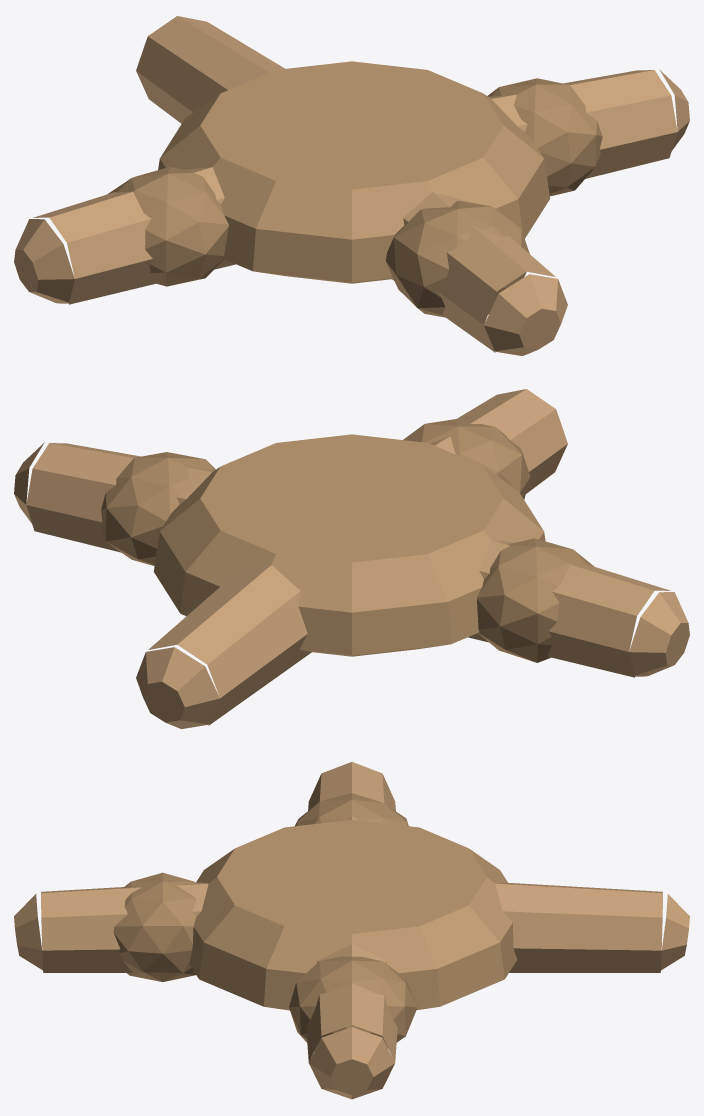
File: KnottedRoot.glb
3 views of the same model, one above another, from view 1: azimuth 30°, elevation 25°; view 2: azimuth 150°, elevation 25°; view 3: azimuth 270°, elevation 25° (orthographic). The views are drawn at different scales.
Parts seen in each view (by area): view 1: KnottedRoot_KnottedBase, KnottedRoot_KnottedRoots, KnottedRoot_KnottedKnots; view 2: KnottedRoot_KnottedBase, KnottedRoot_KnottedRoots, KnottedRoot_KnottedKnots; view 3: KnottedRoot_KnottedBase, KnottedRoot_KnottedRoots, KnottedRoot_KnottedKnots.
Part boxes in pixels (bbox=[...]): KnottedRoot_KnottedBase: bbox=[158, 61, 550, 283]; KnottedRoot_KnottedRoots: bbox=[14, 16, 689, 355]; KnottedRoot_KnottedKnots: bbox=[107, 78, 602, 317]; KnottedRoot_KnottedBase: bbox=[153, 434, 545, 656]; KnottedRoot_KnottedRoots: bbox=[14, 389, 689, 728]; KnottedRoot_KnottedKnots: bbox=[101, 419, 594, 662]; KnottedRoot_KnottedBase: bbox=[189, 820, 517, 1010]; KnottedRoot_KnottedRoots: bbox=[14, 762, 689, 1099]; KnottedRoot_KnottedKnots: bbox=[113, 793, 417, 1050].
Size of the model in its own units: 3.75 by 0.6035 by 3.75.
